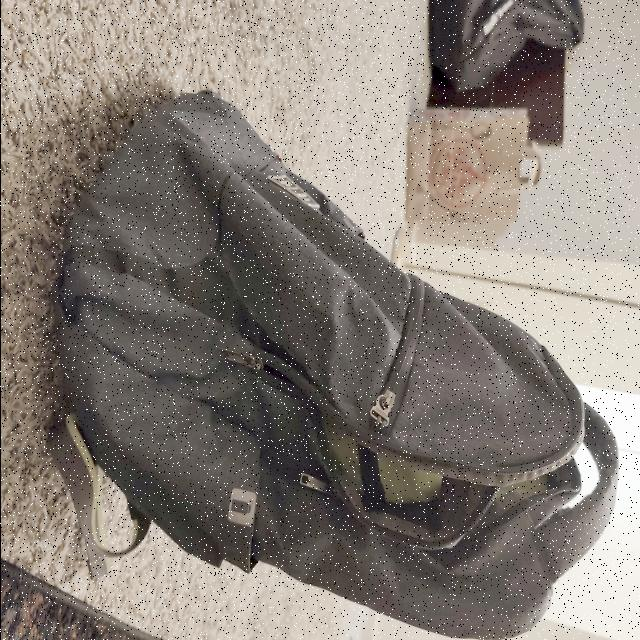bag: (73, 95, 620, 640)
